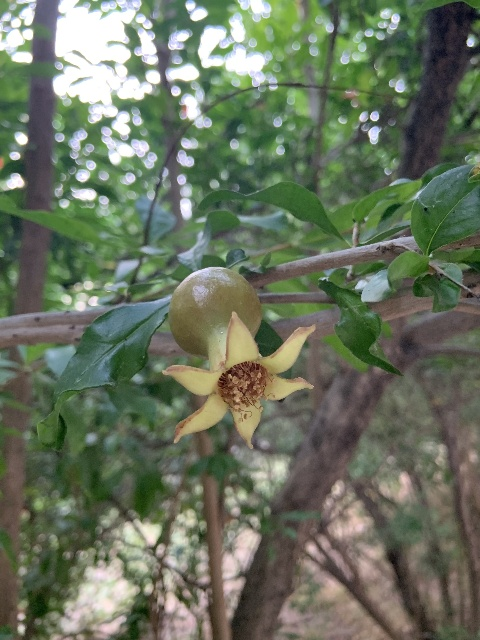mid-growth: (162, 267, 315, 449)
